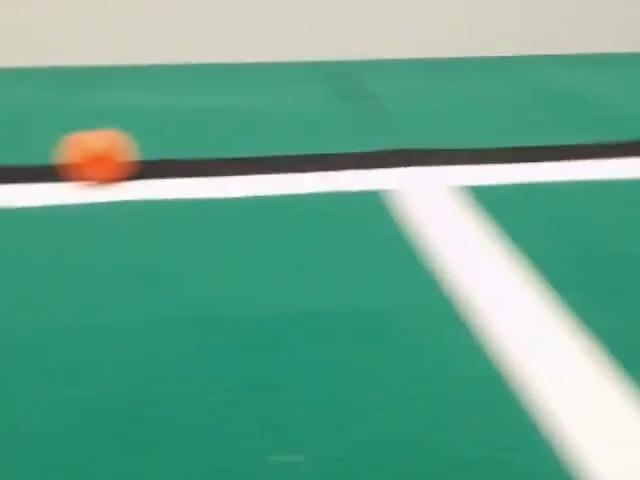Ball: (54, 129, 139, 183)
